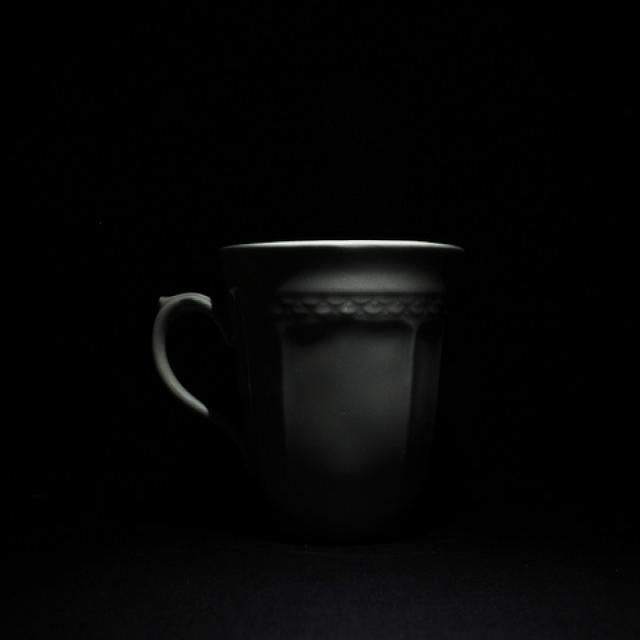Cup: (153, 228, 481, 553)
